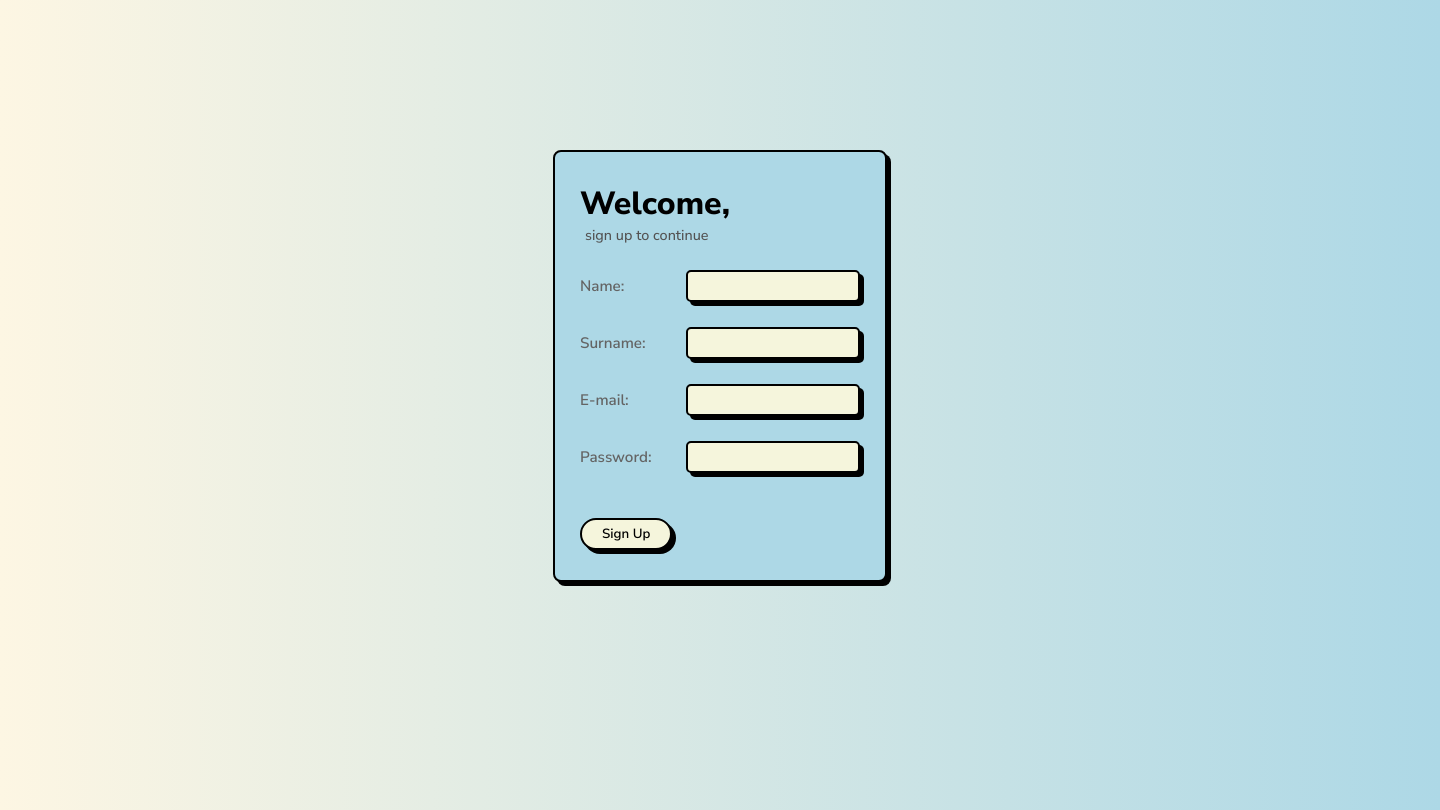
Scenario: Тесты для формы › показывать ошибки валидации при пустых input
Click the button "Sign Up": (626,534) [580,518,672,550]
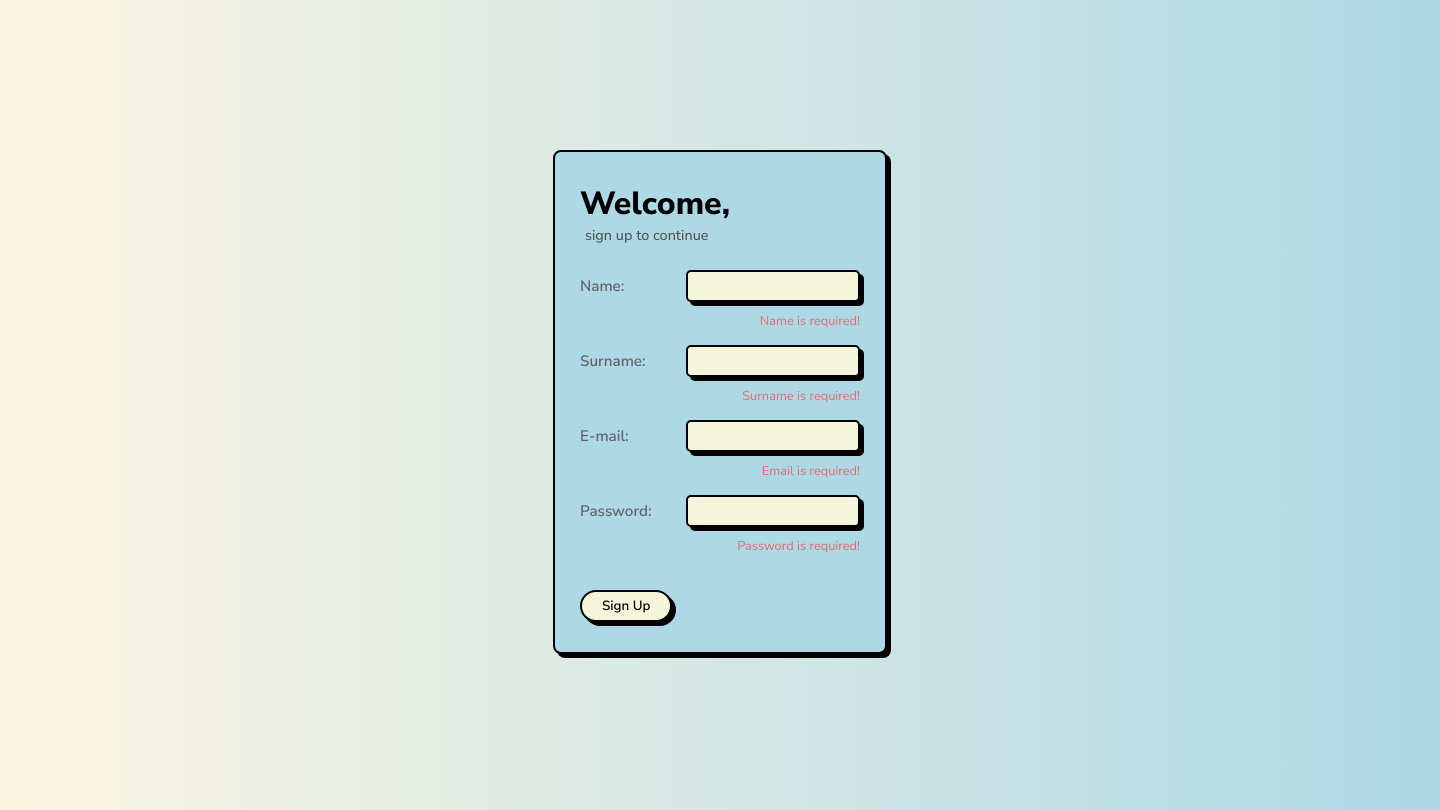
Expected: the text "Name is required!" is shown, [760,312,860,330]
Expected: the text "Surname is required!" is shown, [742,387,860,405]
Expected: the text "Email is required!" is shown, [762,462,860,480]
